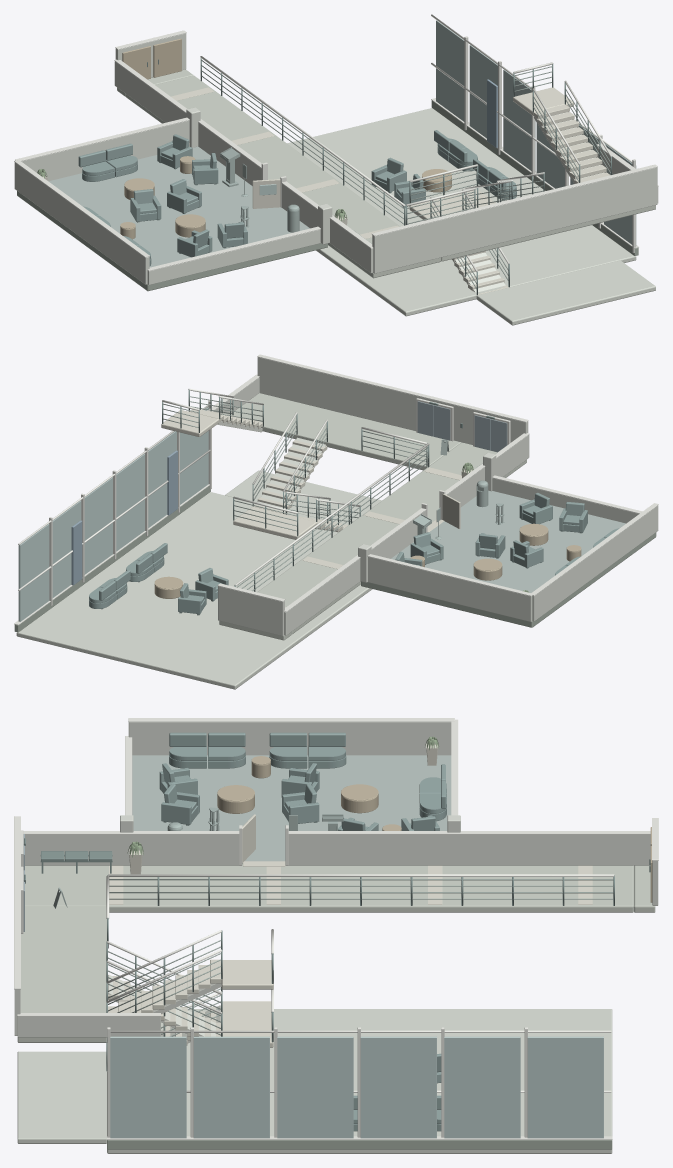
The model's file is building.glb.
3 renders of one model, top to bottom at view 1: azimuth 30°, elevation 25°; view 2: azimuth 150°, elevation 25°; view 3: azimuth 270°, elevation 25°, orthographic. The views are drawn at different scales.
Visible parts, largest first — view 1: Atrium · lower floor, Lift lobby end wall, Lounge · carpet, Upper balcony, Lower stair arrival, Lounge west, Lounge north, Lounge corridor wall north, Lounge south, Atrium · glazing.005, Atrium · glazing.003, Lounge · foundation (+21 smaller); view 2: Atrium · lower floor, Lounge · carpet, Upper balcony, Lift lobby end wall, Lift and stair landing, Lounge north, Lounge west, Lounge corridor wall north, Lower stair arrival, Atrium · glazing.005, Far corridor end, Atrium · glazing.002 (+26 smaller); view 3: Upper balcony, Lounge · carpet, Atrium · lower floor, Lounge corridor wall north, Lift and stair landing, Lower stair arrival, Atrium · glazing, Atrium · glazing.001, Atrium · glazing.002, Atrium · glazing.003, Atrium · glazing.004, Atrium · glazing.005 (+21 smaller).
Boxes of the visible parts, box(x1,y1,x2,y2) form: Atrium · lower floor: box(287, 108, 636, 316); Lift lobby end wall: box(372, 167, 657, 273); Lounge · carpet: box(49, 146, 309, 267); Upper balcony: box(125, 75, 441, 278); Lower stair arrival: box(476, 260, 655, 325); Lounge west: box(14, 162, 149, 284); Lounge north: box(21, 120, 189, 181); Lounge corridor wall north: box(114, 61, 261, 185); Lounge south: box(147, 229, 320, 284); Atrium · glazing.005: box(436, 20, 464, 121); Atrium · glazing.003: box(503, 69, 535, 171); Lounge · foundation: box(17, 191, 327, 291); Atrium · lower floor: box(16, 492, 372, 689); Lounge · carpet: box(391, 490, 625, 592); Upper balcony: box(257, 442, 526, 634); Lift lobby end wall: box(257, 357, 528, 444); Lift and stair landing: box(231, 393, 461, 470); Lounge north: box(368, 556, 532, 621); Lounge west: box(532, 505, 658, 621); Lounge corridor wall north: box(284, 510, 425, 635); Lower stair arrival: box(225, 470, 381, 525); Atrium · glazing.005: box(18, 524, 49, 621); Far corridor end: box(218, 586, 284, 635); Atrium · glazing.002: box(116, 454, 144, 551); Upper balcony: box(25, 865, 633, 912); Lounge · carpet: box(132, 755, 451, 861); Atrium · lower floor: box(107, 1009, 612, 1153); Lounge corridor wall north: box(288, 834, 650, 865); Lift and stair landing: box(17, 906, 106, 1042); Lower stair arrival: box(17, 1051, 106, 1143); Atrium · glazing: box(110, 1036, 186, 1138); Atrium · glazing.001: box(193, 1036, 269, 1138); Atrium · glazing.002: box(277, 1036, 353, 1138); Atrium · glazing.003: box(360, 1036, 436, 1138); Atrium · glazing.004: box(444, 1036, 520, 1138); Atrium · glazing.005: box(527, 1036, 603, 1138).
Size of the model in its own units: 19.45 by 5.95 by 18.
